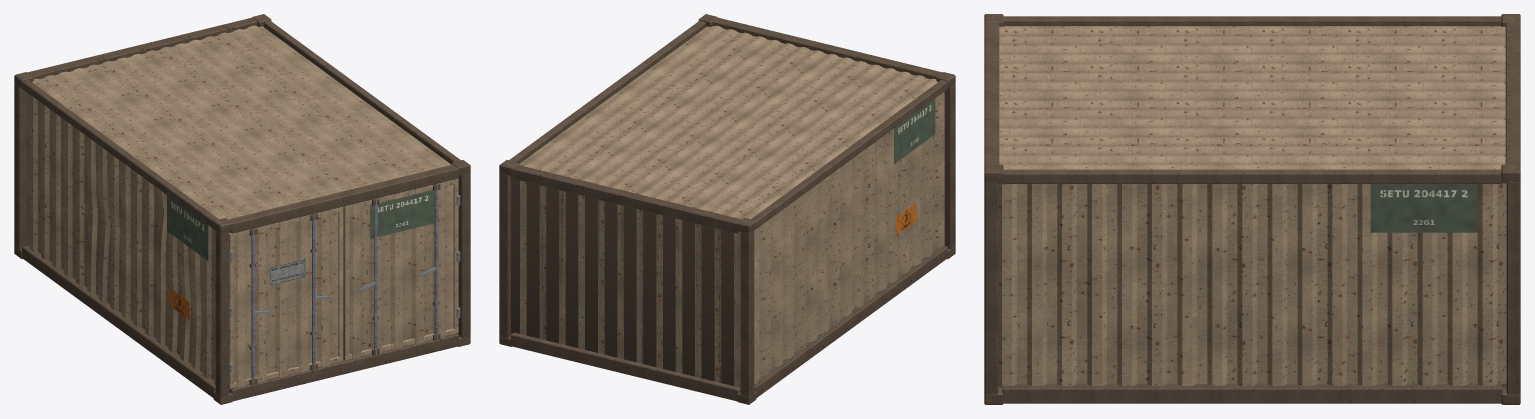
Rendered from cargo_container_dented_sand.gltf.
The picture shows the model from 3 angles, left to right: view 1: azimuth 30°, elevation 25°; view 2: azimuth 150°, elevation 25°; view 3: azimuth 270°, elevation 25°; orthographic projection. The views are drawn at different scales.
Parts seen in each view (by area): view 1: Container_Dented_Body; view 2: Container_Dented_Body; view 3: Container_Dented_Body.
Boxes of the visible parts, x1,y1,x2,y2 form: Container_Dented_Body: (14, 14, 470, 404); Container_Dented_Body: (499, 14, 955, 404); Container_Dented_Body: (984, 14, 1520, 404).
Size of the model in its own units: 3.5 by 2.4 by 5.
4 materials, 4 textured.
